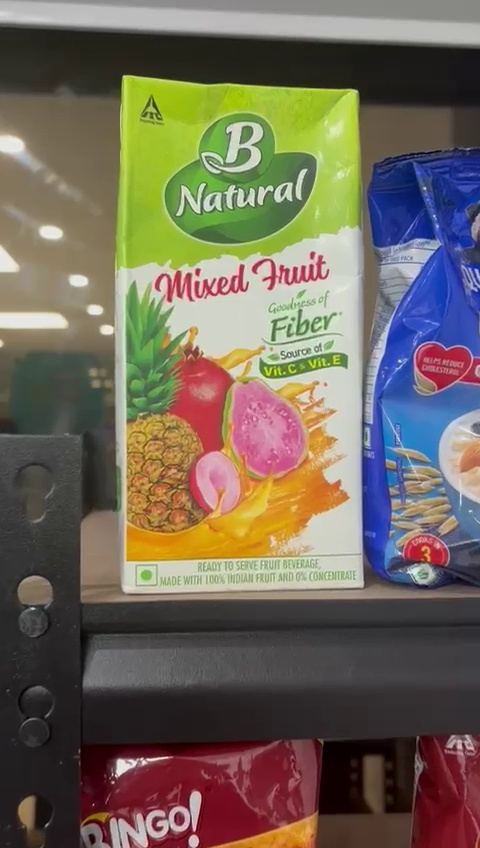Mixed Fruit: (120, 77, 366, 585)
